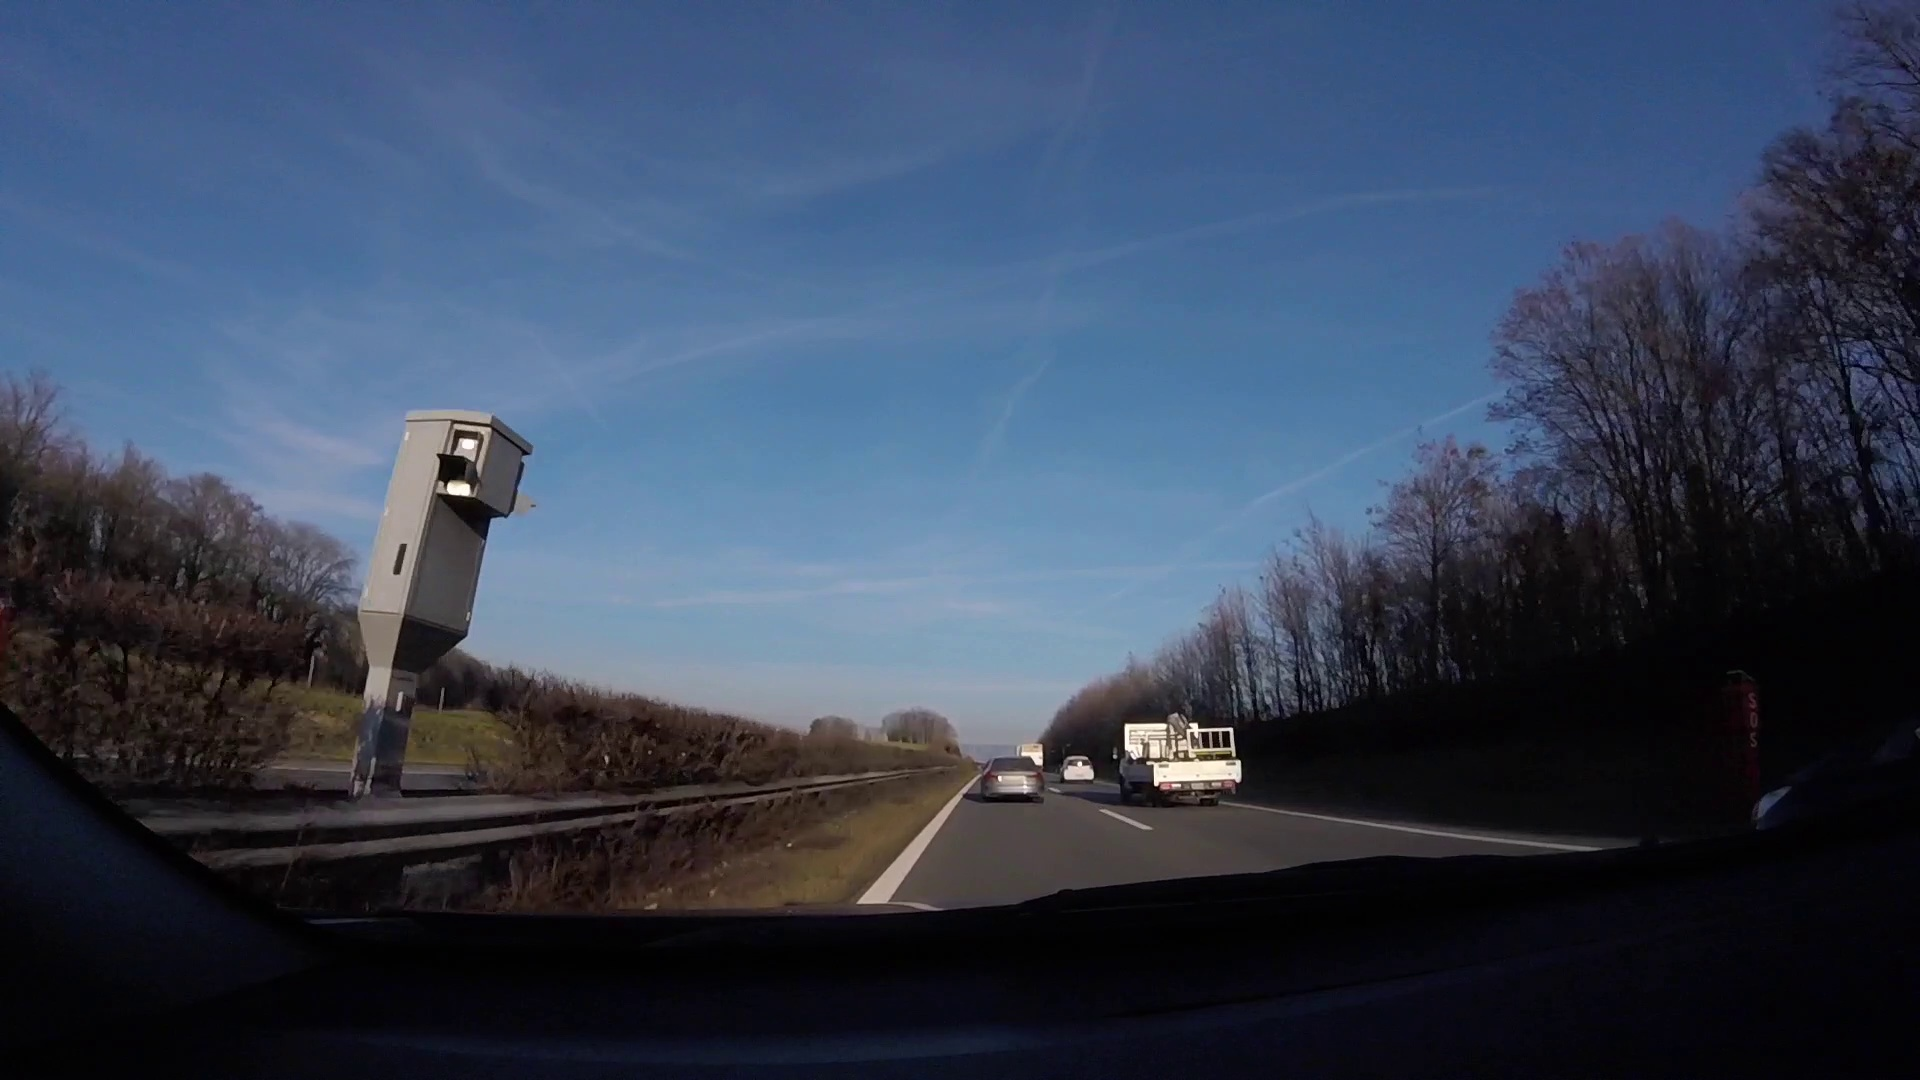radar: (355, 407, 535, 727)
